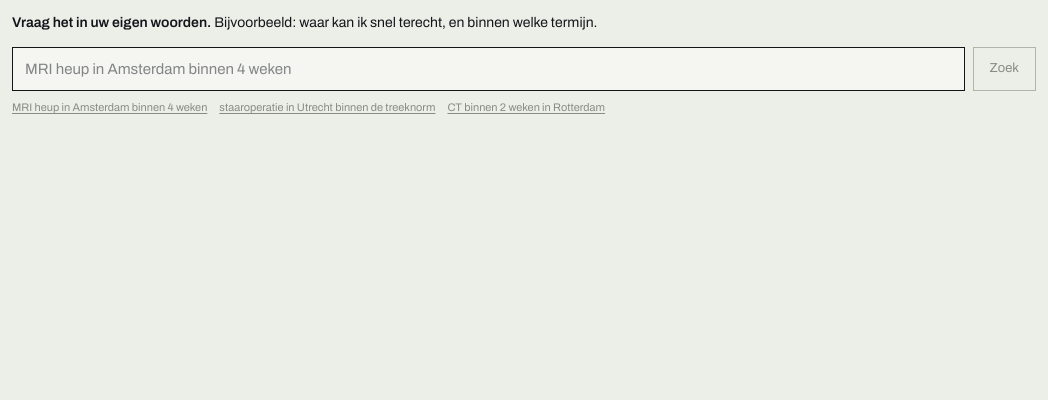
Test: Assistant › admits when it read the question without a model
In the field labelled "Vraag het in uw eigen woorden": (488,69) [12,47,964,91], type "MRI heup Amsterdam"
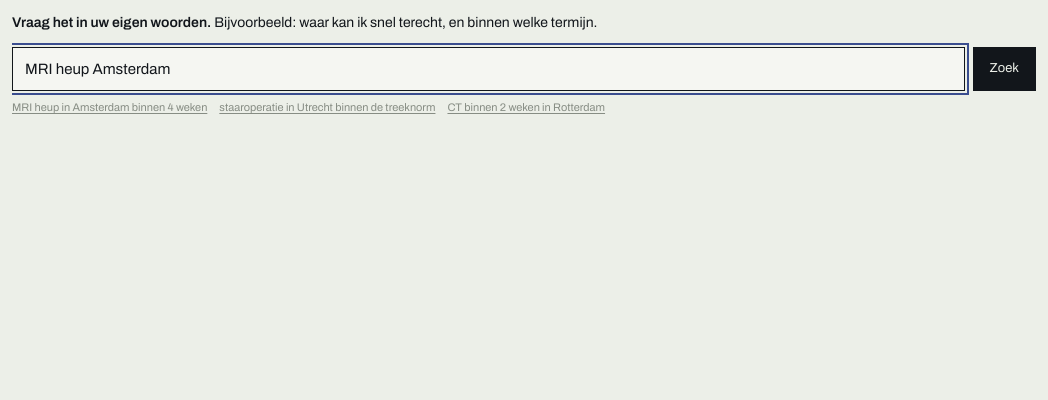
Click the button "Zoek": (1004,69) [972,47,1036,91]
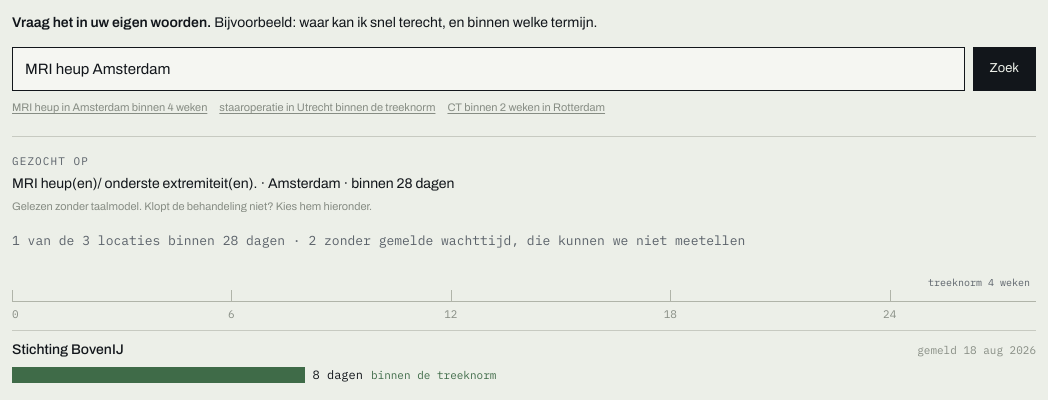
Expected: the text "Gelezen zonder taalmodel" is shown, [12,200,372,212]
